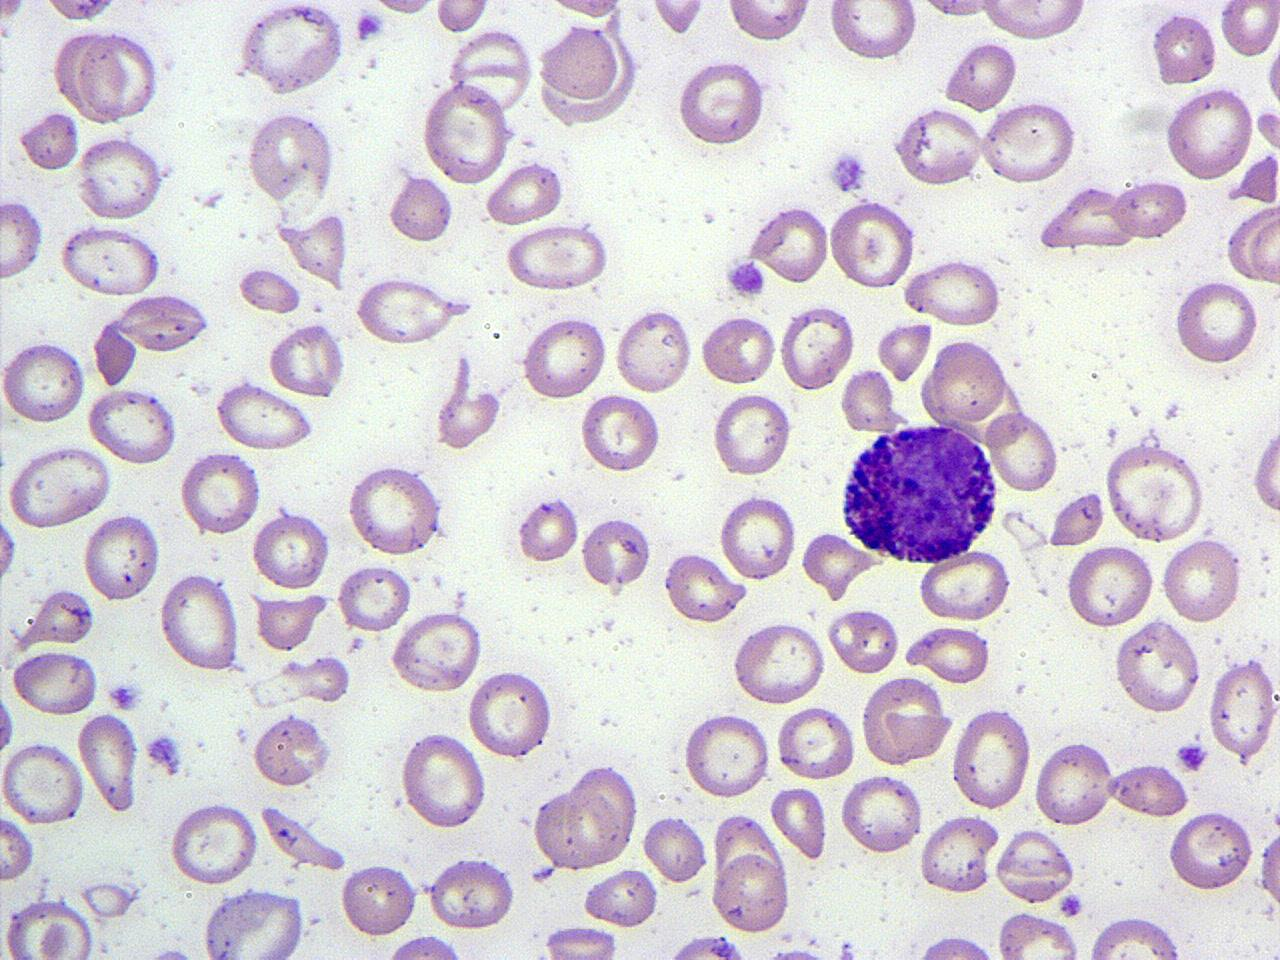Platelets: (828, 147, 869, 196), (724, 257, 767, 299), (144, 730, 180, 768), (353, 8, 386, 44), (104, 680, 143, 710), (1174, 740, 1210, 772), (768, 942, 824, 960), (1058, 892, 1086, 918), (200, 188, 227, 210), (836, 938, 856, 960), (364, 51, 382, 70)
RBC: (237, 1, 346, 98), (1104, 440, 1206, 542), (6, 442, 114, 530), (420, 80, 510, 186), (345, 462, 444, 556), (1163, 82, 1255, 182), (1112, 615, 1202, 715), (399, 730, 490, 830), (730, 617, 829, 707), (948, 705, 1032, 811), (465, 665, 554, 762), (979, 99, 1079, 186), (858, 674, 951, 766), (246, 107, 333, 206), (160, 569, 241, 673), (352, 275, 470, 346), (682, 710, 772, 802), (828, 197, 916, 290), (675, 59, 767, 148), (387, 610, 484, 694), (1172, 276, 1262, 366), (1065, 541, 1155, 630), (74, 133, 163, 223), (200, 885, 306, 960), (168, 800, 260, 886), (446, 25, 534, 115), (521, 312, 608, 402), (1166, 808, 1256, 894), (56, 224, 161, 297), (81, 26, 159, 124), (178, 448, 262, 538), (81, 510, 161, 604), (503, 222, 610, 292), (922, 337, 1006, 427), (894, 104, 984, 188), (1, 337, 85, 427), (1206, 654, 1278, 759), (1161, 534, 1243, 626), (718, 489, 798, 582), (86, 385, 180, 464), (1, 738, 85, 827), (1033, 738, 1115, 828), (568, 761, 640, 863), (710, 390, 792, 478), (901, 256, 1005, 326), (918, 810, 1000, 897), (214, 382, 316, 452), (50, 26, 123, 124), (918, 547, 1012, 622), (839, 771, 923, 855), (578, 390, 662, 474), (1038, 182, 1140, 251), (750, 200, 831, 286), (614, 306, 692, 395), (984, 406, 1061, 495), (538, 21, 621, 104), (778, 301, 852, 392), (251, 508, 332, 592), (531, 784, 608, 871), (660, 548, 748, 624), (434, 354, 502, 453), (712, 849, 790, 933), (76, 710, 140, 812), (429, 856, 516, 932), (775, 702, 856, 783), (338, 860, 419, 939), (110, 291, 212, 354), (9, 648, 100, 718), (268, 320, 346, 400), (251, 710, 332, 788), (994, 828, 1076, 904), (700, 311, 778, 387), (0, 898, 96, 960), (334, 560, 412, 634), (580, 514, 653, 592), (944, 38, 1019, 114), (800, 528, 878, 600), (826, 1, 918, 62), (826, 602, 900, 676), (482, 160, 564, 225), (1150, 7, 1218, 86), (386, 170, 454, 246), (908, 624, 992, 684), (642, 811, 710, 884), (1113, 176, 1189, 240), (582, 866, 660, 928), (992, 908, 1082, 960), (979, 0, 1089, 42), (1109, 760, 1189, 818), (516, 493, 580, 566), (770, 784, 828, 862), (290, 208, 348, 287), (1087, 914, 1183, 960), (1227, 202, 1279, 284), (16, 106, 79, 173), (254, 588, 317, 652), (723, 0, 814, 44), (0, 195, 46, 282), (28, 586, 96, 644), (838, 364, 896, 430), (877, 318, 932, 384), (237, 264, 302, 316), (1220, 0, 1278, 57), (1049, 490, 1109, 546), (1256, 809, 1280, 931), (540, 924, 620, 960), (1250, 424, 1280, 516), (0, 809, 36, 883), (658, 932, 754, 960), (298, 653, 352, 702), (381, 932, 470, 960), (910, 933, 999, 960), (646, 0, 712, 36), (540, 0, 636, 22), (39, 0, 124, 24), (432, 1, 492, 35), (0, 502, 19, 590), (0, 676, 16, 764), (371, 0, 436, 19)
WBC: (836, 421, 1002, 564), (235, 0, 348, 100), (201, 886, 308, 960)
